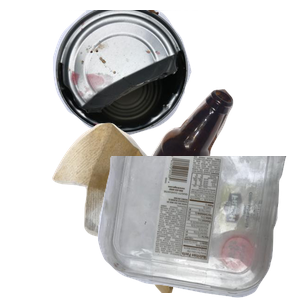glass: (130, 87, 300, 267)
metal: (50, 10, 262, 140)
plastic: (95, 156, 300, 300)
trash: (50, 120, 219, 300)
